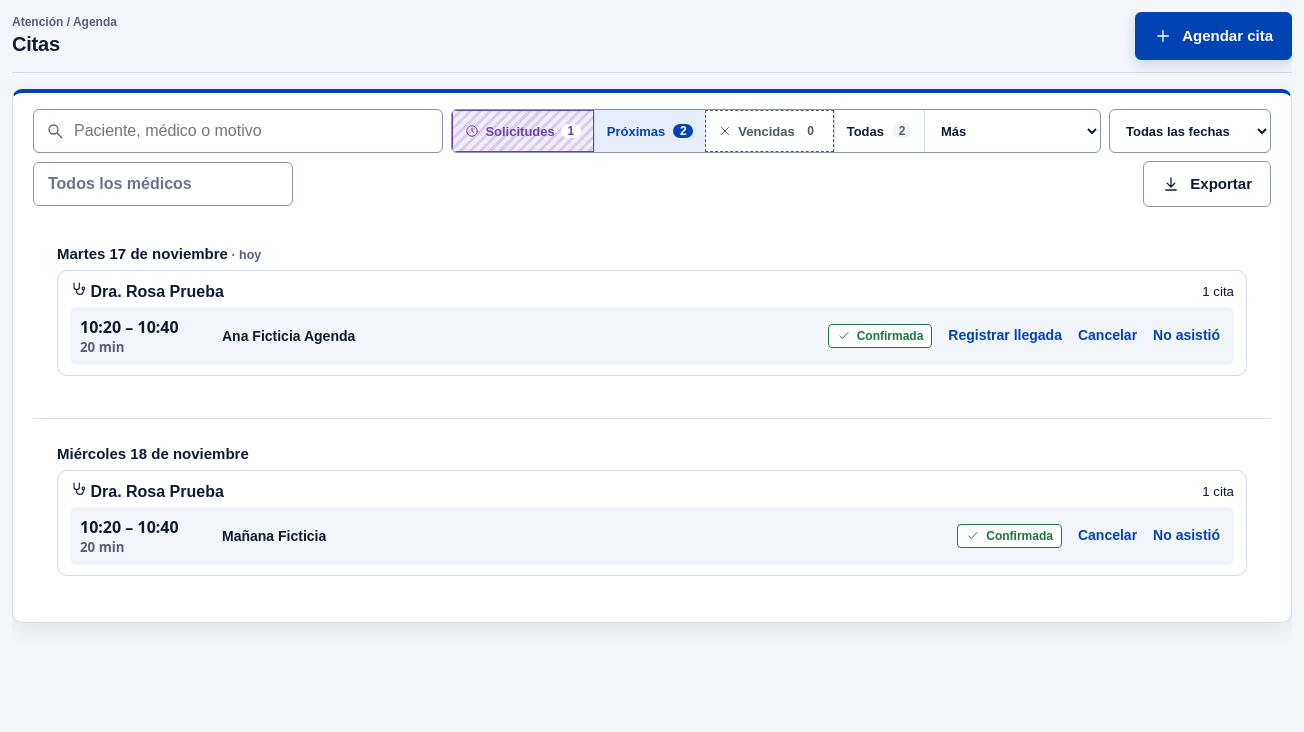
Test case: B1 desde la agenda · registrar llegada (D-1) › a confirmed appointment of today registers the arrival in one click and says the number in place
Click the button with aria-label "Registrar llegada ·" at (1005,336), box [944,315,1066,357]
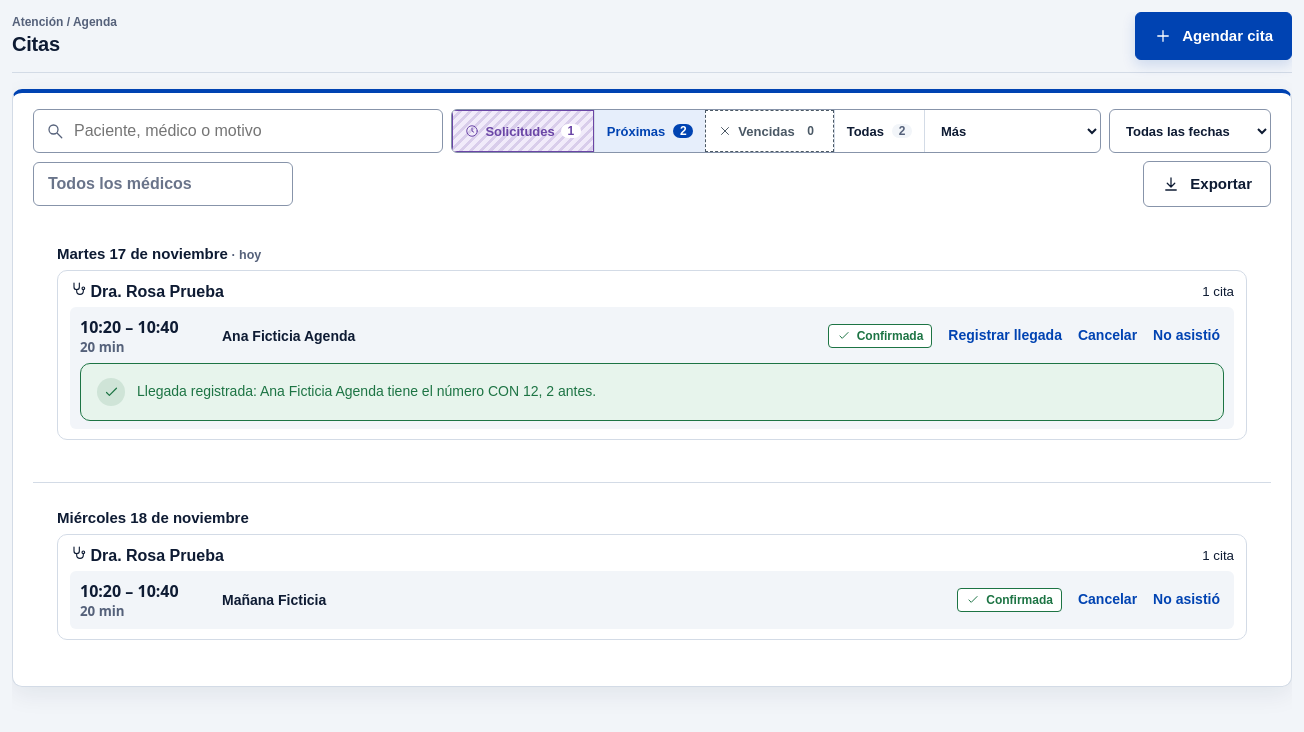
expect the text "Llegada registrada: Ana Ficticia Agenda tiene el número CON 12, 2 antes." is shown: met, box [137,378,596,403]
